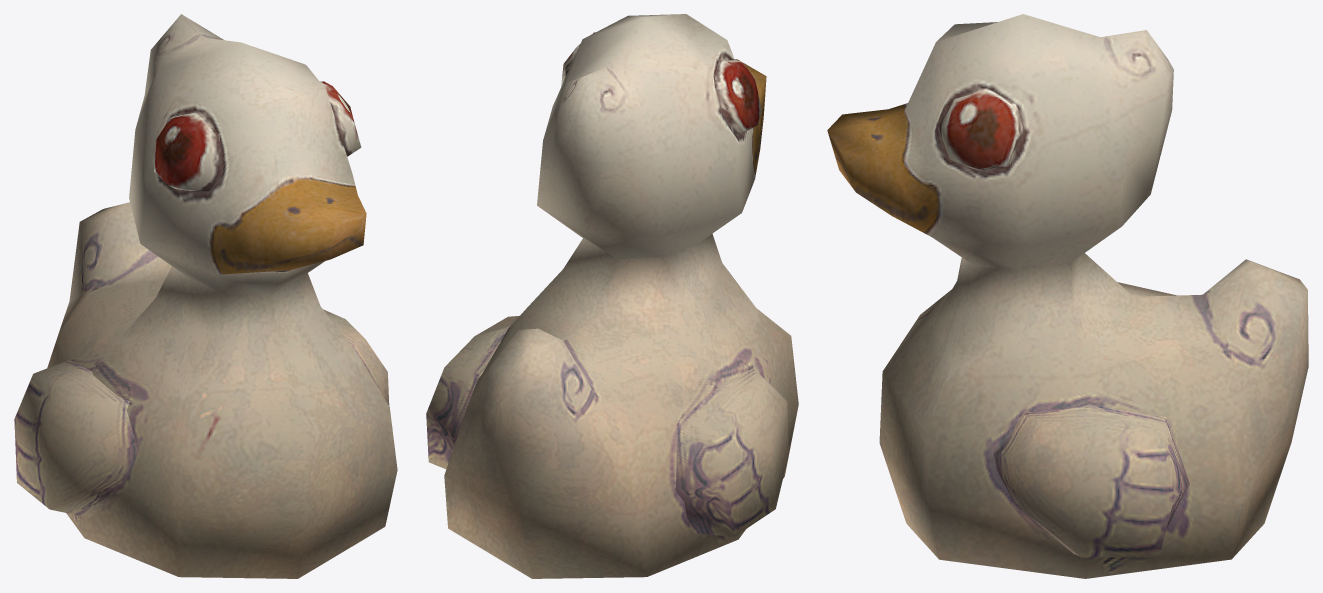
Rendered from rubber_ducky.glb.
The picture shows the model from 3 angles, left to right: view 1: azimuth 30°, elevation 25°; view 2: azimuth 150°, elevation 25°; view 3: azimuth 270°, elevation 25°; orthographic projection. The views are drawn at different scales.
Visible parts, largest first — view 1: MSH_RubberDuck; view 2: MSH_RubberDuck; view 3: MSH_RubberDuck.
Part boxes in pixels (bbox=[...]): MSH_RubberDuck: bbox=[14, 14, 397, 578]; MSH_RubberDuck: bbox=[426, 14, 798, 578]; MSH_RubberDuck: bbox=[827, 14, 1308, 578].
Bounding box in the file's own units: 3.48 × 5.23 × 4.32.
Materials: 1 (1 with a texture image).
